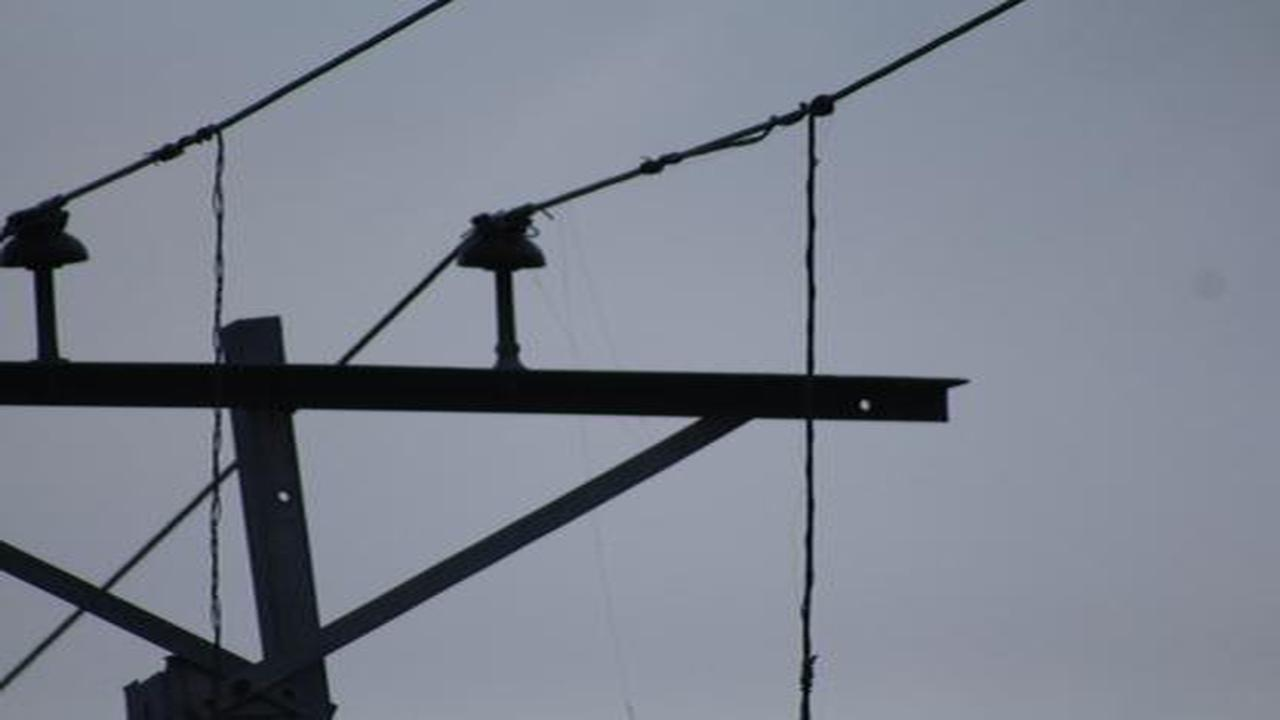insulator_pin: (449, 200, 558, 281), (4, 197, 95, 275)
